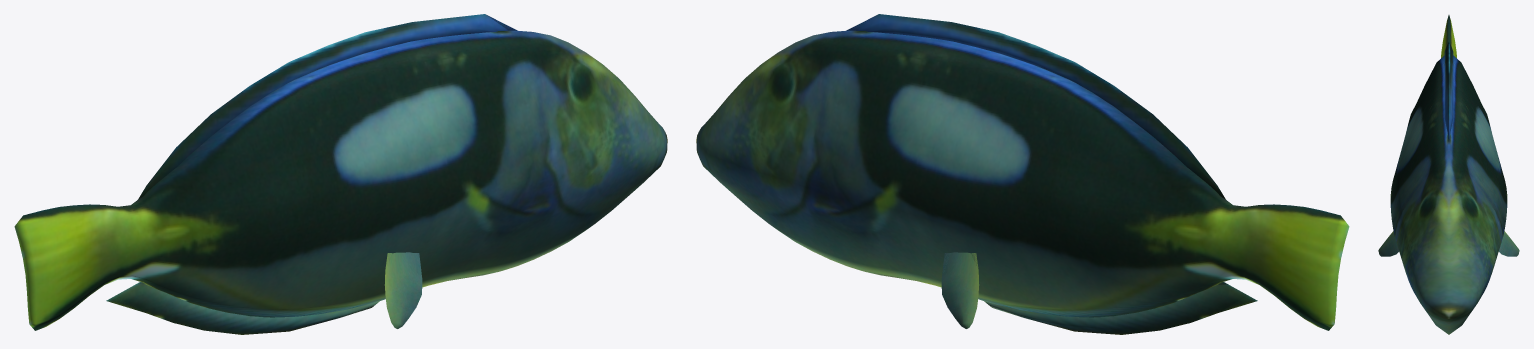
File: Fish 8.fbx
3 views of the same model, side by side, from view 1: azimuth 30°, elevation 25°; view 2: azimuth 150°, elevation 25°; view 3: azimuth 270°, elevation 25° (orthographic). The views are drawn at different scales.
Parts seen in each view (by area): view 1: Fish_8; view 2: Fish_8; view 3: Fish_8.
Boxes of the visible parts, x1,y1,x2,y2 form: Fish_8: (14, 14, 667, 334); Fish_8: (696, 14, 1349, 334); Fish_8: (1378, 15, 1519, 334).
Size of the model in its own units: 9.11 by 3.74 by 2.27.
Materials: 1 (1 with a texture image).
